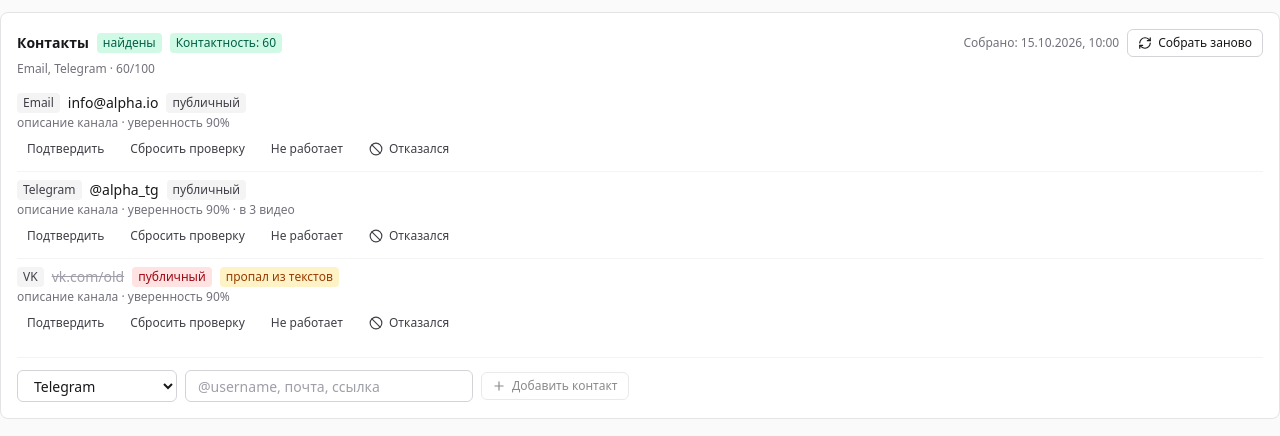
ChannelContactsCard › adds a contact by hand and shows the validation error of the backend
Expected: the text "Контактность: 60" is shown, [170, 33, 282, 53]
Step 1. Select "Email" in the dropdown named "Тип контакта" → x=97, y=386, box [17, 370, 177, 402]
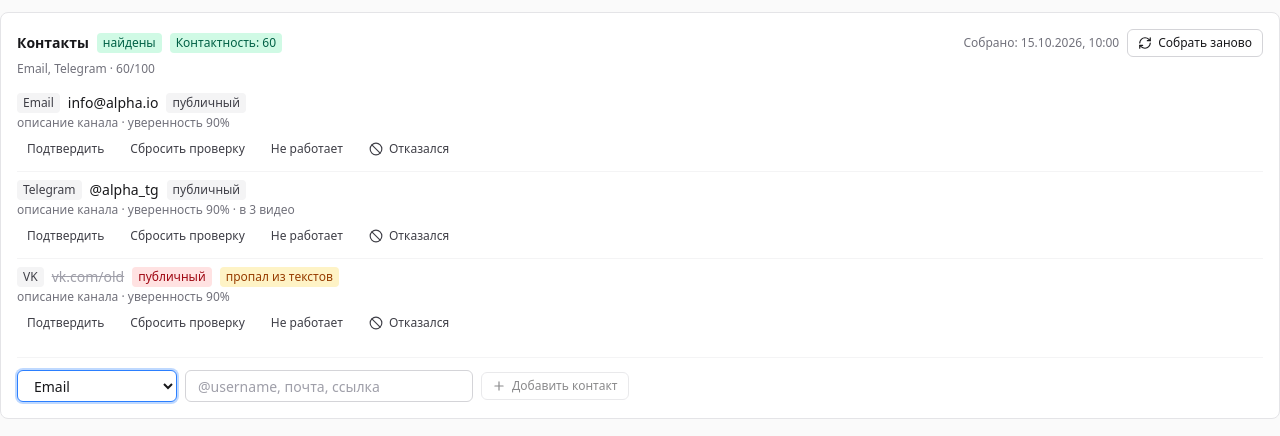
Step 2. Type "not-an-email" into the field named "Значение контакта" → x=329, y=386, box [185, 370, 473, 402]
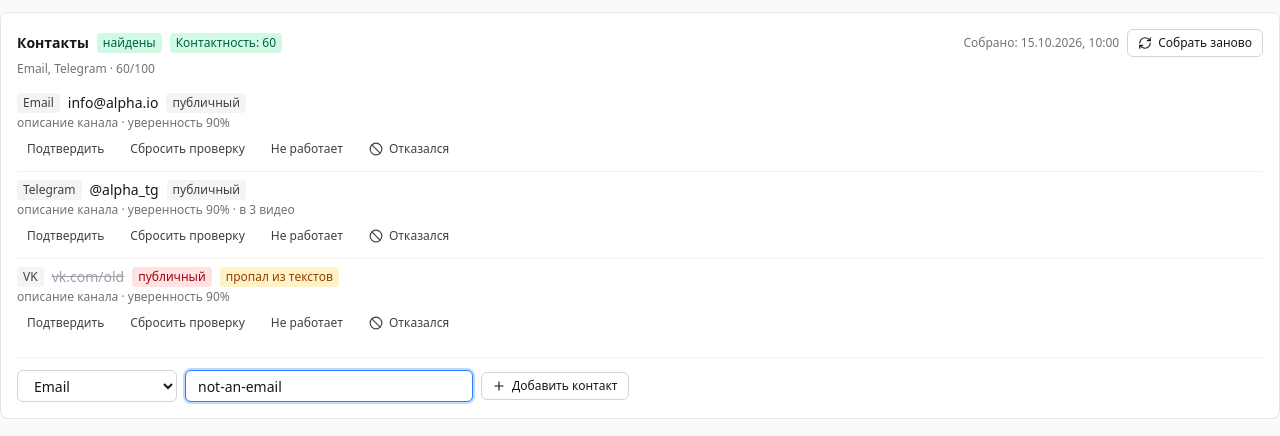
Step 3. Click the button "Добавить контакт" → x=555, y=386, box [481, 372, 629, 400]
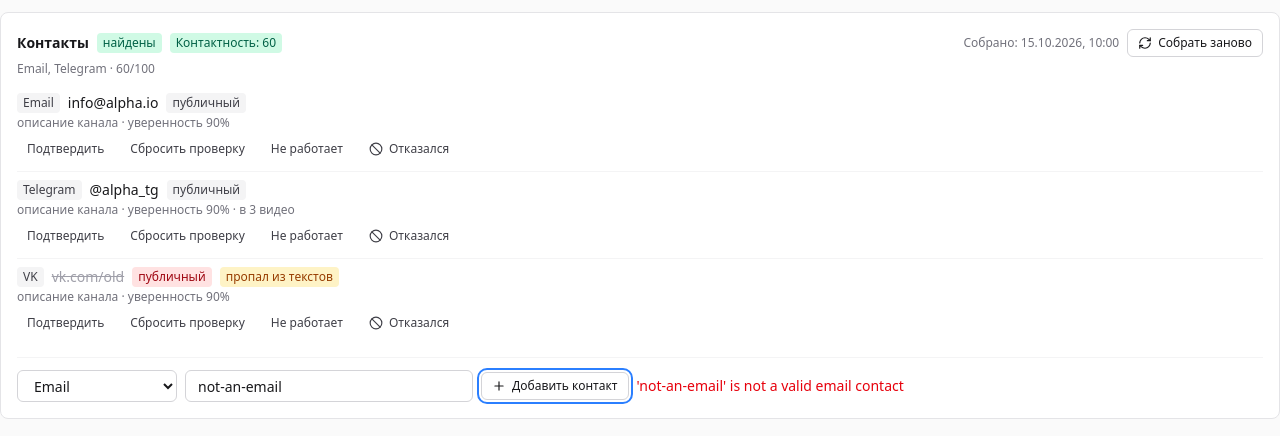
Now the message shows "is not a valid email contact", box [637, 376, 904, 395]
